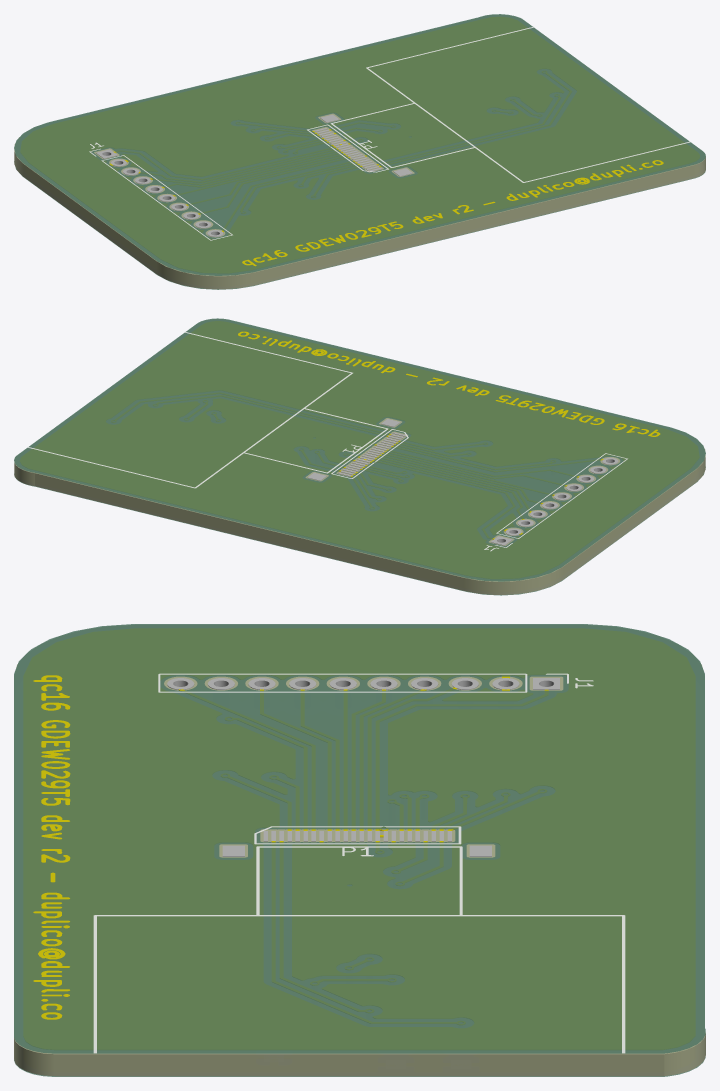
The model's file is queercon-16-badge.glb.
3 views of the same model, one above another, from view 1: azimuth 30°, elevation 25°; view 2: azimuth 150°, elevation 25°; view 3: azimuth 270°, elevation 25° (orthographic). The views are drawn at different scales.
Parts seen in each view (by area): view 1: =>[0:1:1:7], =>[0:1:1:2], =>[0:1:1:9], =>[0:1:1:5]; view 2: =>[0:1:1:7], =>[0:1:1:2], =>[0:1:1:9], =>[0:1:1:5]; view 3: =>[0:1:1:7], =>[0:1:1:2], =>[0:1:1:9], =>[0:1:1:5].
Part boxes in pixels (box(x1,y1,x2,y2)): =>[0:1:1:7]: box(14, 14, 705, 289); =>[0:1:1:2]: box(21, 17, 699, 272); =>[0:1:1:9]: box(14, 15, 705, 289); =>[0:1:1:5]: box(89, 27, 690, 240); =>[0:1:1:7]: box(14, 318, 705, 595); =>[0:1:1:2]: box(20, 321, 698, 578); =>[0:1:1:9]: box(14, 319, 705, 594); =>[0:1:1:5]: box(27, 332, 627, 551); =>[0:1:1:7]: box(14, 624, 705, 1076); =>[0:1:1:2]: box(24, 629, 694, 1049); =>[0:1:1:9]: box(14, 625, 705, 1076); =>[0:1:1:5]: box(93, 673, 625, 1053).
Size of the model in its own units: 0.0635 by 0.00166 by 0.0432.
4 materials, 4 textured.
